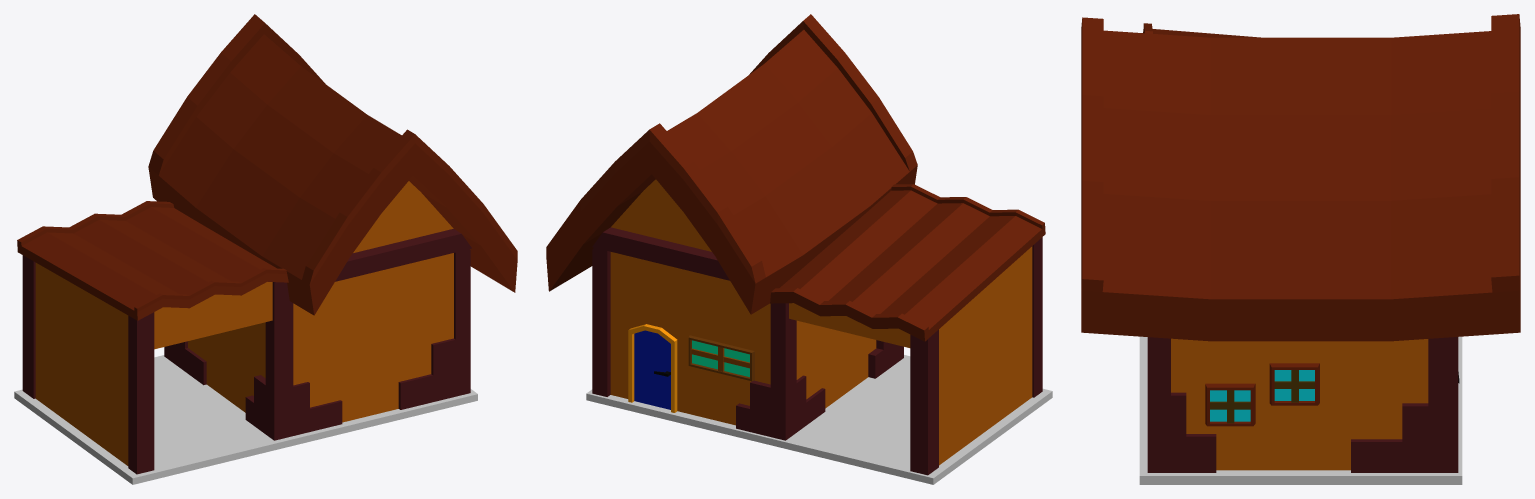
Rendered from CasaComCagragemAberta.fbx.
The picture shows the model from 3 angles, left to right: view 1: azimuth 30°, elevation 25°; view 2: azimuth 150°, elevation 25°; view 3: azimuth 270°, elevation 25°; orthographic projection. The views are drawn at different scales.
Parts seen in each view (by area): view 1: CasaComCagragemAberta; view 2: CasaComCagragemAberta; view 3: CasaComCagragemAberta.
Part boxes in pixels (x1=…): CasaComCagragemAberta: x1=14, y1=14, x2=517, y2=484; CasaComCagragemAberta: x1=546, y1=14, x2=1052, y2=484; CasaComCagragemAberta: x1=1081, y1=14, x2=1520, y2=484.
Size of the model in its own units: 1188 by 951 by 912.
